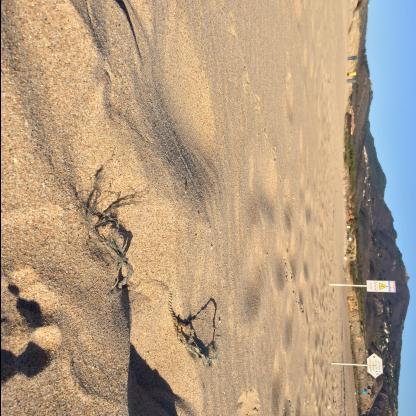diger: (85, 193, 137, 290), (167, 291, 217, 368)
